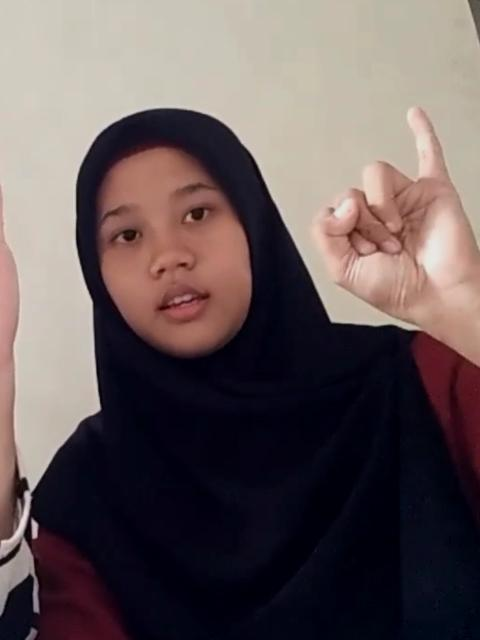I: (313, 106, 473, 316)
